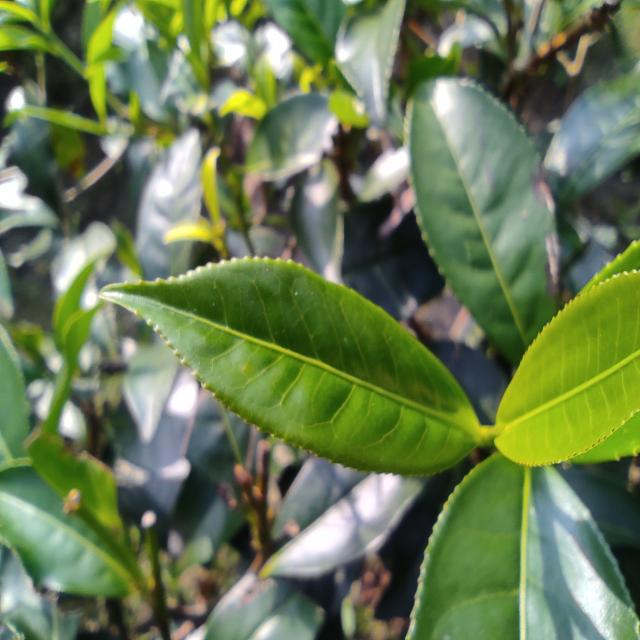Category B(2-4 days): (98, 247, 494, 479)
